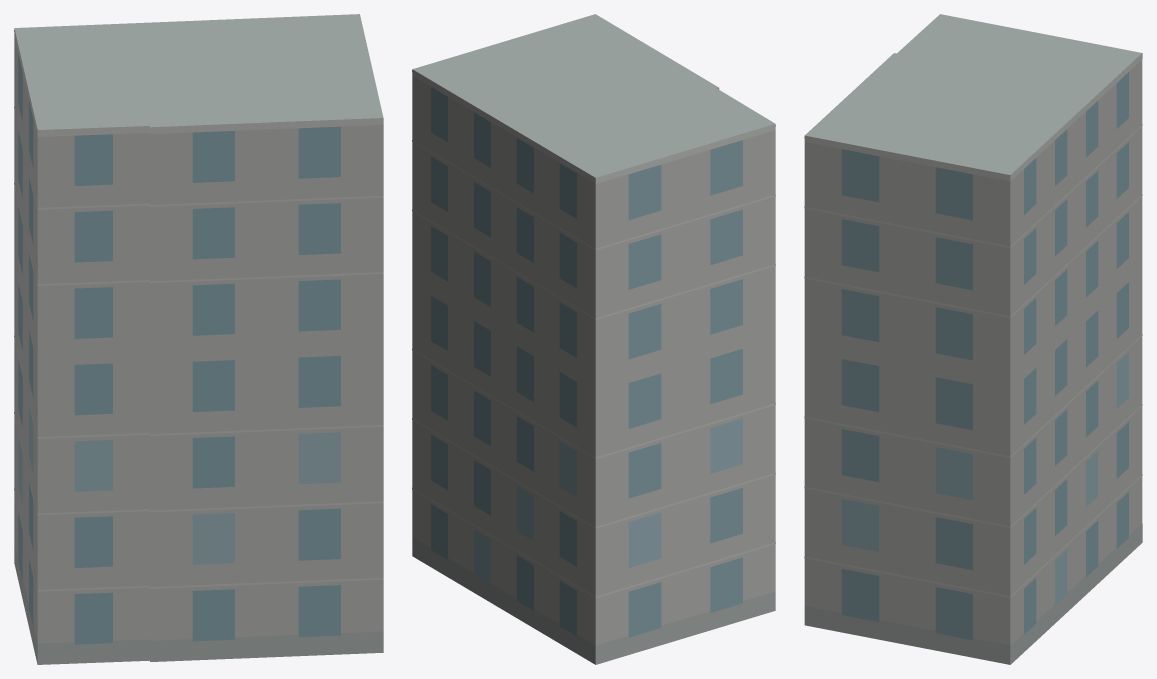
File: survey-upis-33003858.glb
3 views of the same model, side by side, from view 1: azimuth 30°, elevation 25°; view 2: azimuth 150°, elevation 25°; view 3: azimuth 270°, elevation 25° (orthographic). The views are drawn at different scales.
Parts seen in each view (by area): view 1: survey-upis-33003858.tmp; view 2: survey-upis-33003858.tmp; view 3: survey-upis-33003858.tmp.
Boxes of the visible parts, box(x1,y1,x2,y2) form: survey-upis-33003858.tmp: box(14, 14, 383, 664); survey-upis-33003858.tmp: box(412, 14, 775, 664); survey-upis-33003858.tmp: box(804, 14, 1142, 664).
Size of the model in its own units: 13.29 by 18.8 by 11.77.
